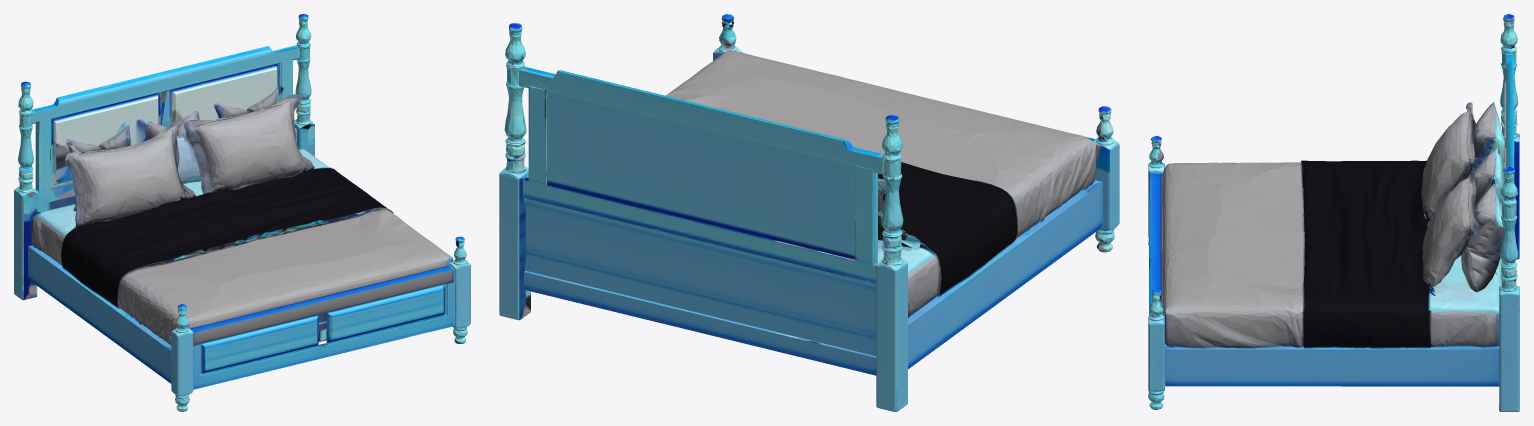
Rendered from edited_mesh.glb.
The picture shows the model from 3 angles, left to right: view 1: azimuth 30°, elevation 25°; view 2: azimuth 150°, elevation 25°; view 3: azimuth 270°, elevation 25°; orthographic projection. The views are drawn at different scales.
Parts seen in each view (by area): view 1: solid_001_wire; view 2: solid_001_wire; view 3: solid_001_wire.
Part boxes in pixels (x1,y1,x2,y2): solid_001_wire: [14, 14, 470, 411]; solid_001_wire: [499, 14, 1119, 411]; solid_001_wire: [1148, 14, 1519, 411].
Size of the model in its own units: 1.68 by 1.16 by 1.63.
Materials: 1 (1 with a texture image).
